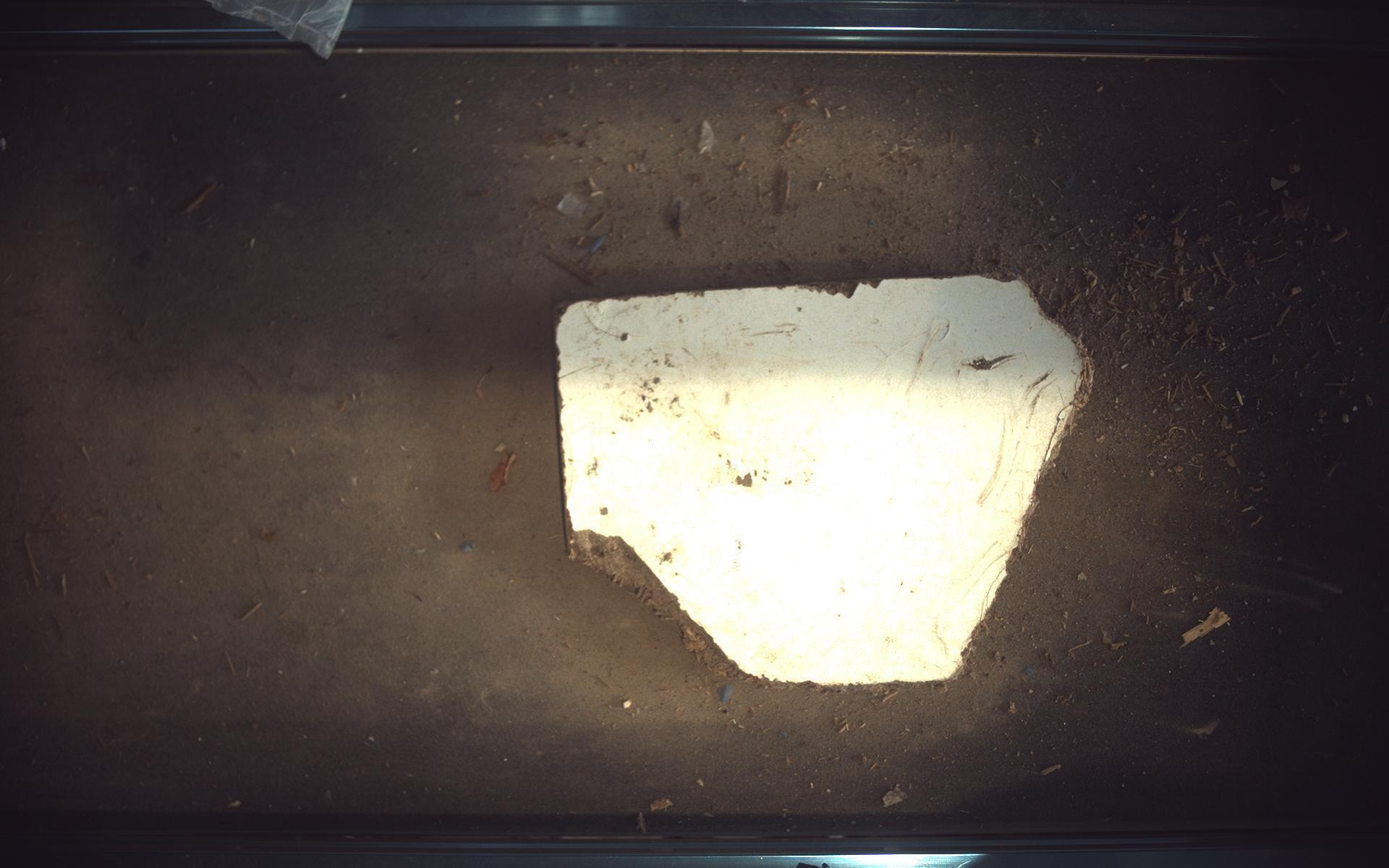wood: (557, 275, 1091, 686)
